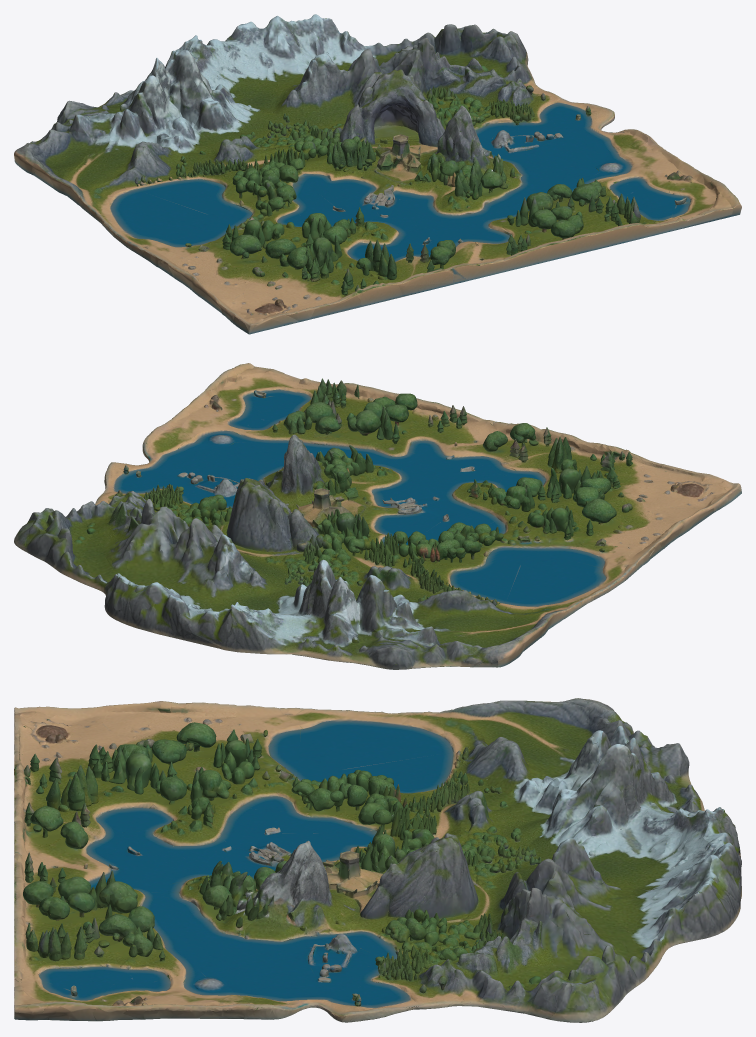
File: mundo.glb
3 views of the same model, one above another, from view 1: azimuth 30°, elevation 25°; view 2: azimuth 150°, elevation 25°; view 3: azimuth 270°, elevation 25° (orthographic). The views are drawn at different scales.
Size of the model in its own units: 1.9 by 0.2401 by 1.9.
1 material, 1 textured.
